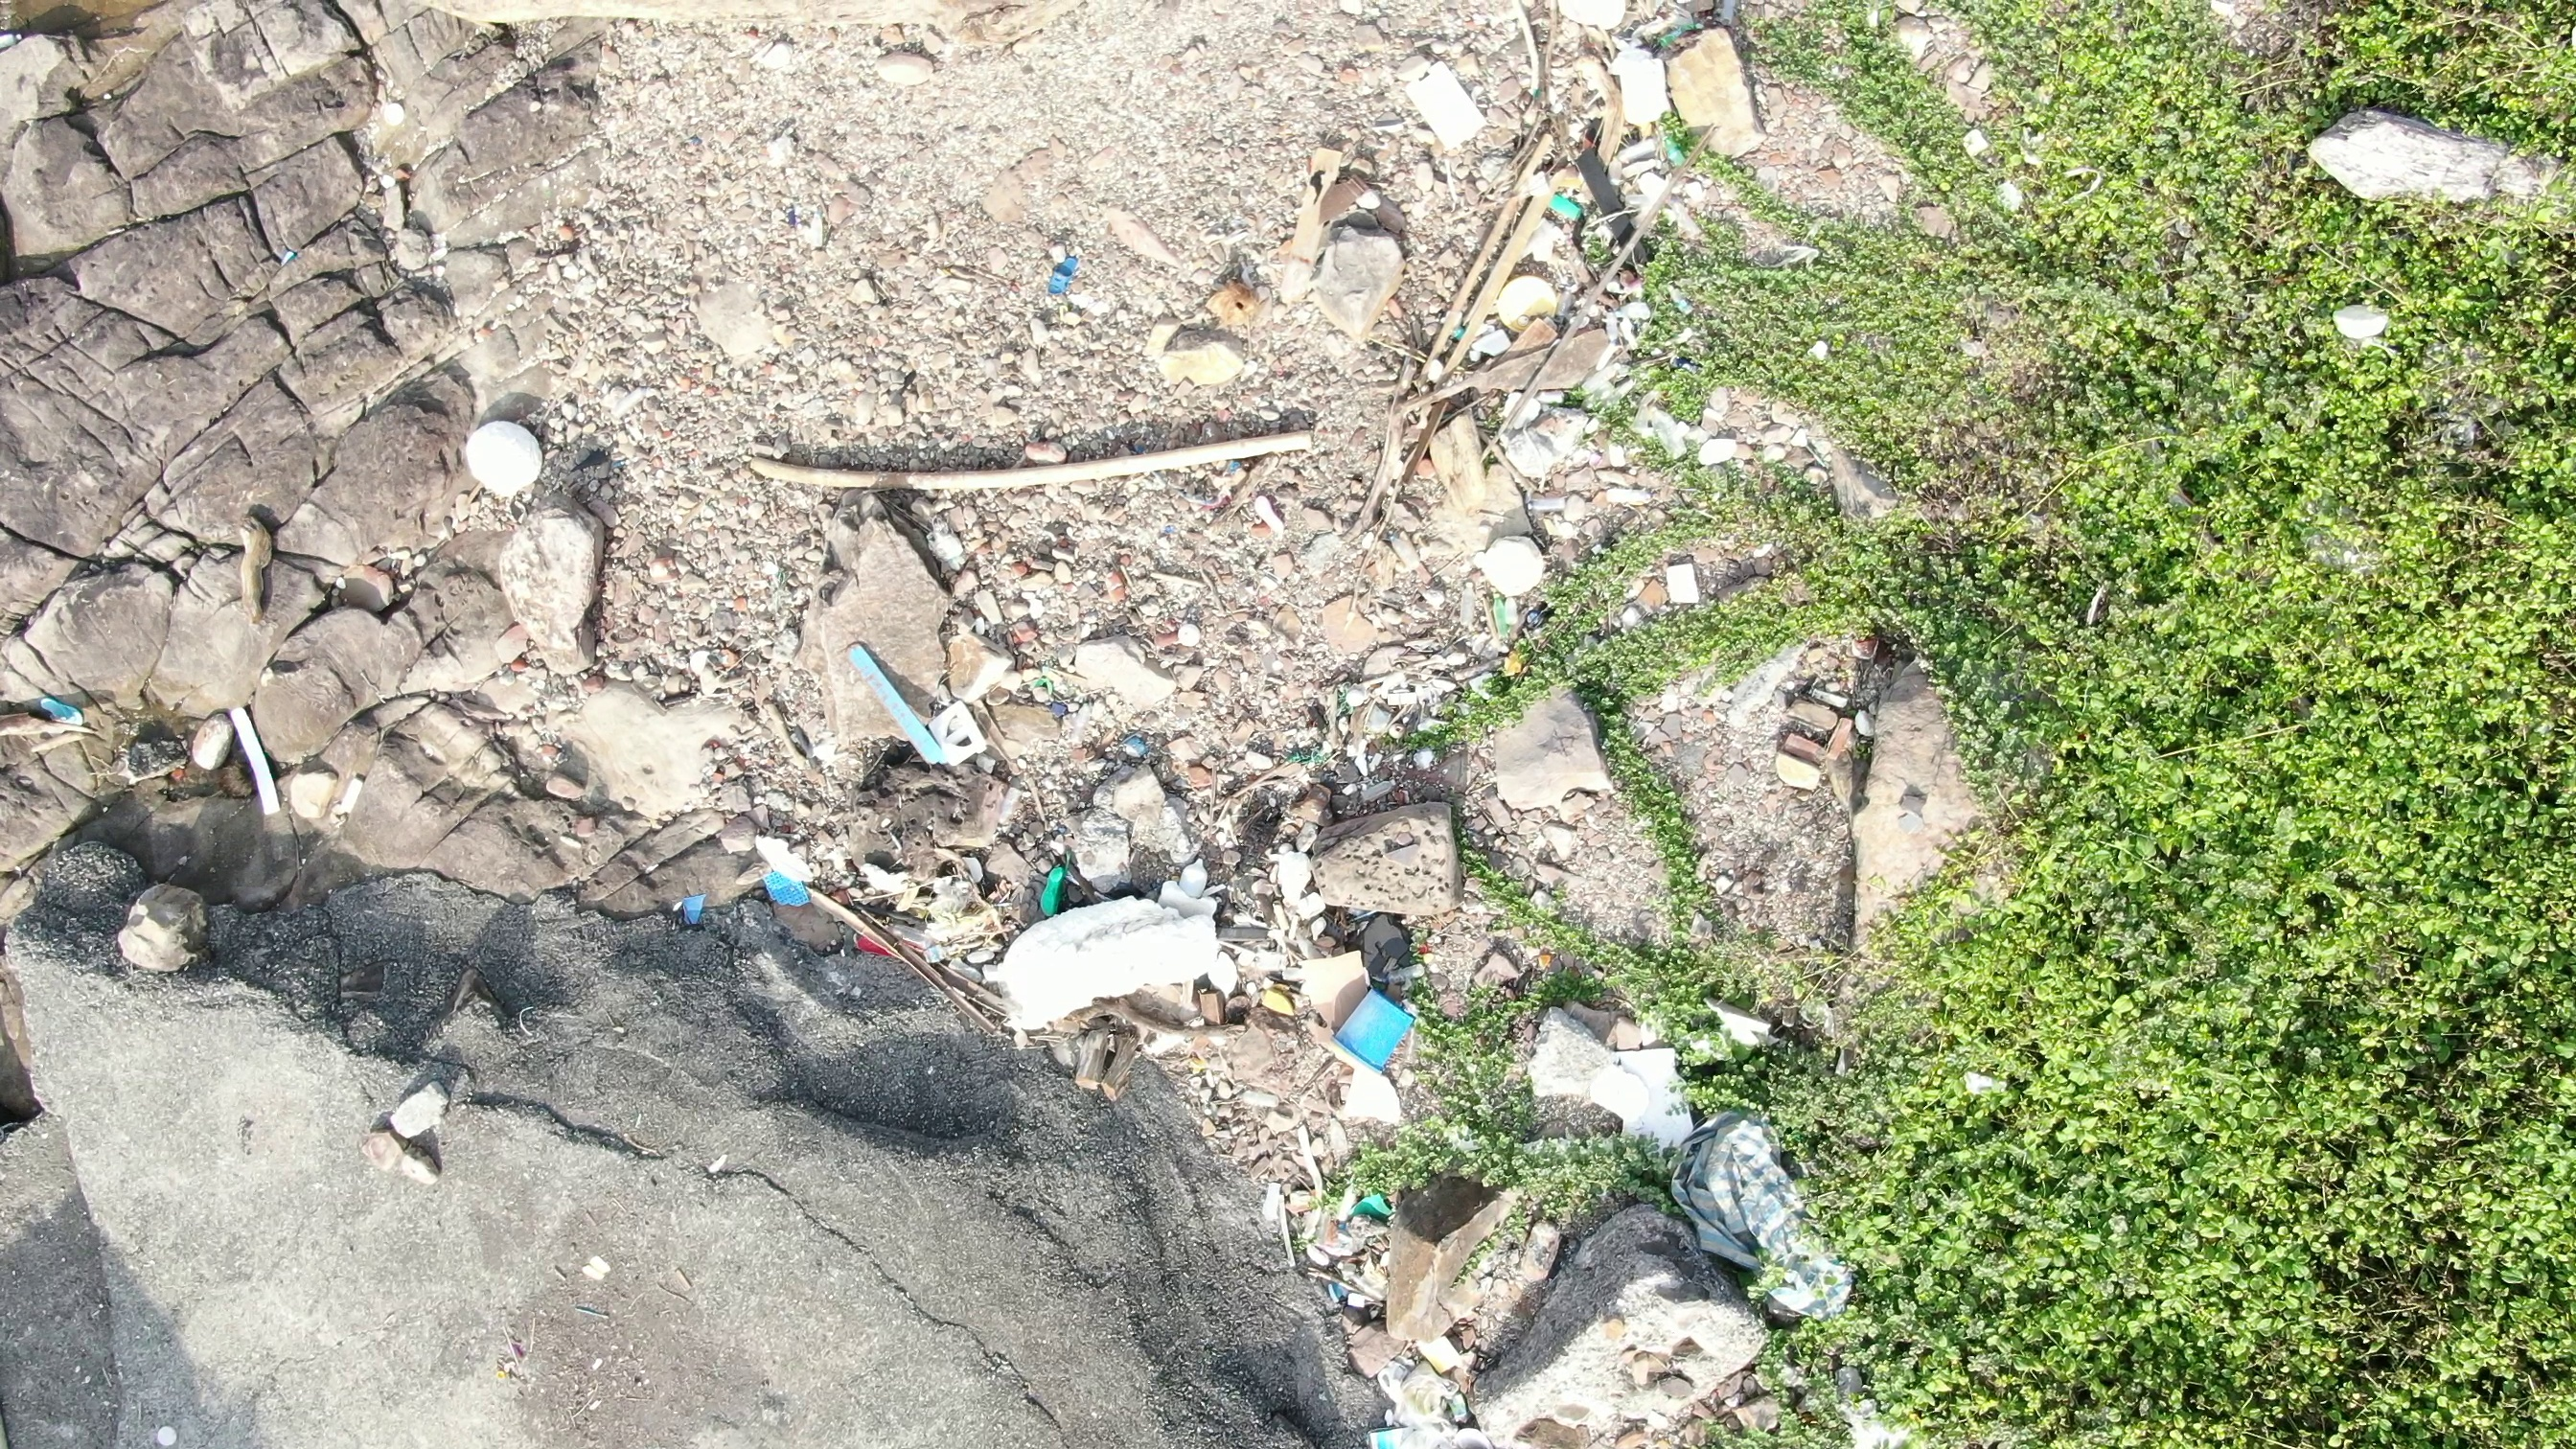garbage: (1672, 1111, 1872, 1334), (662, 824, 906, 973), (1297, 885, 1430, 1081), (835, 635, 987, 773), (1313, 1173, 1417, 1304), (1030, 849, 1081, 931), (1026, 249, 1106, 301), (27, 685, 101, 738), (1532, 189, 1594, 239)
